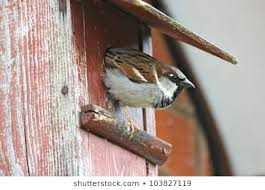home_sparrow: (101, 44, 202, 110)
